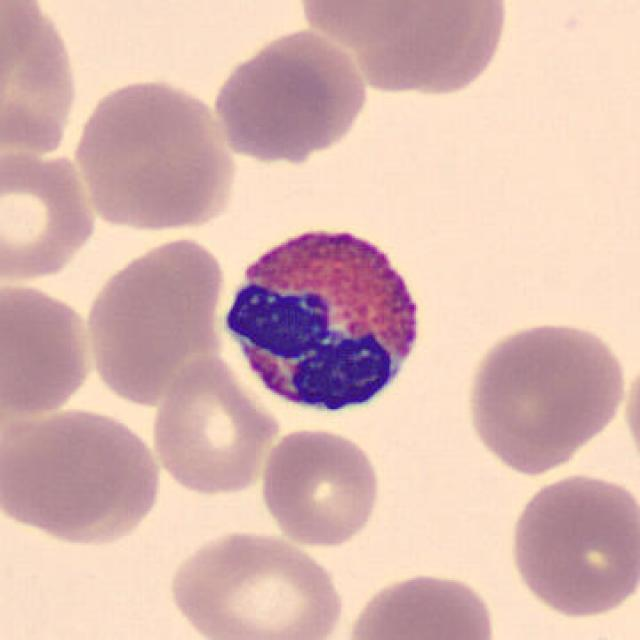Eosinophil: (212, 212, 436, 428)
RBC: (70, 74, 236, 235), (460, 316, 628, 474), (82, 229, 226, 409), (2, 402, 165, 547), (206, 28, 368, 168), (164, 527, 348, 640), (505, 469, 638, 622), (148, 351, 282, 499), (256, 425, 384, 550), (0, 276, 100, 419), (0, 144, 101, 285), (384, 0, 515, 102), (294, 0, 484, 65), (0, 0, 74, 165), (341, 567, 499, 640), (620, 340, 640, 476)
